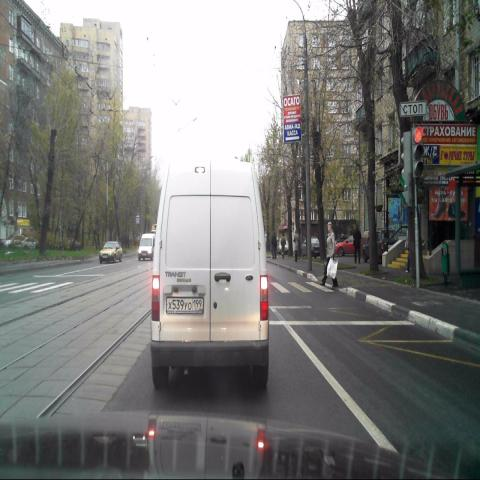6_16: (400, 102, 426, 115)
